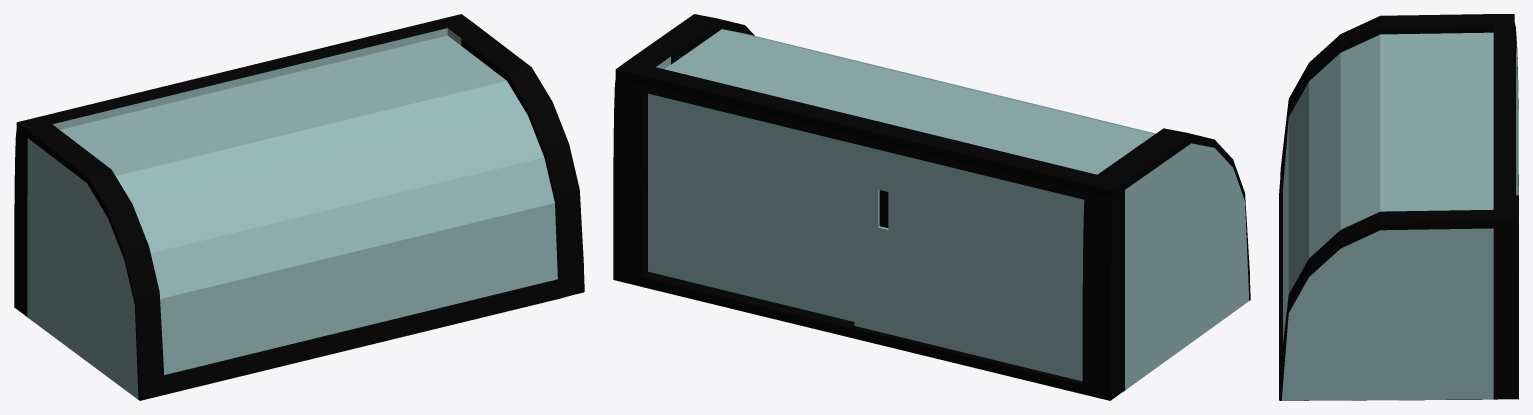
File: refrigerator3 1.fbx
3 views of the same model, side by side, from view 1: azimuth 30°, elevation 25°; view 2: azimuth 150°, elevation 25°; view 3: azimuth 270°, elevation 25° (orthographic). The views are drawn at different scales.
Visible parts, largest first — view 1: pCylinder1; view 2: pCylinder1, pCube2, pCube1; view 3: pCylinder1.
Boxes of the visible parts, box(x1,y1,x2,y2) form: pCylinder1: box(14, 14, 584, 400); pCylinder1: box(613, 14, 1250, 400); pCube2: box(854, 144, 1084, 381); pCube1: box(648, 93, 854, 321); pCylinder1: box(1279, 14, 1518, 400).
Size of the model in its own units: 3.89 by 1.57 by 1.9.
